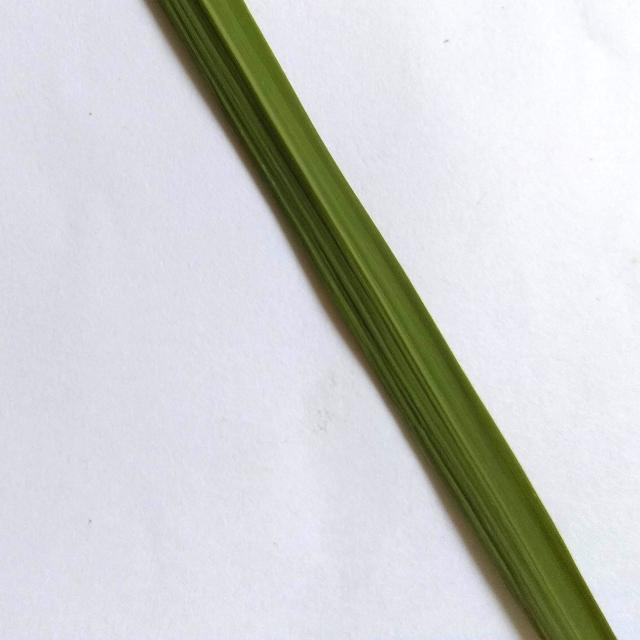Rice_Healthy: (162, 0, 617, 640)
